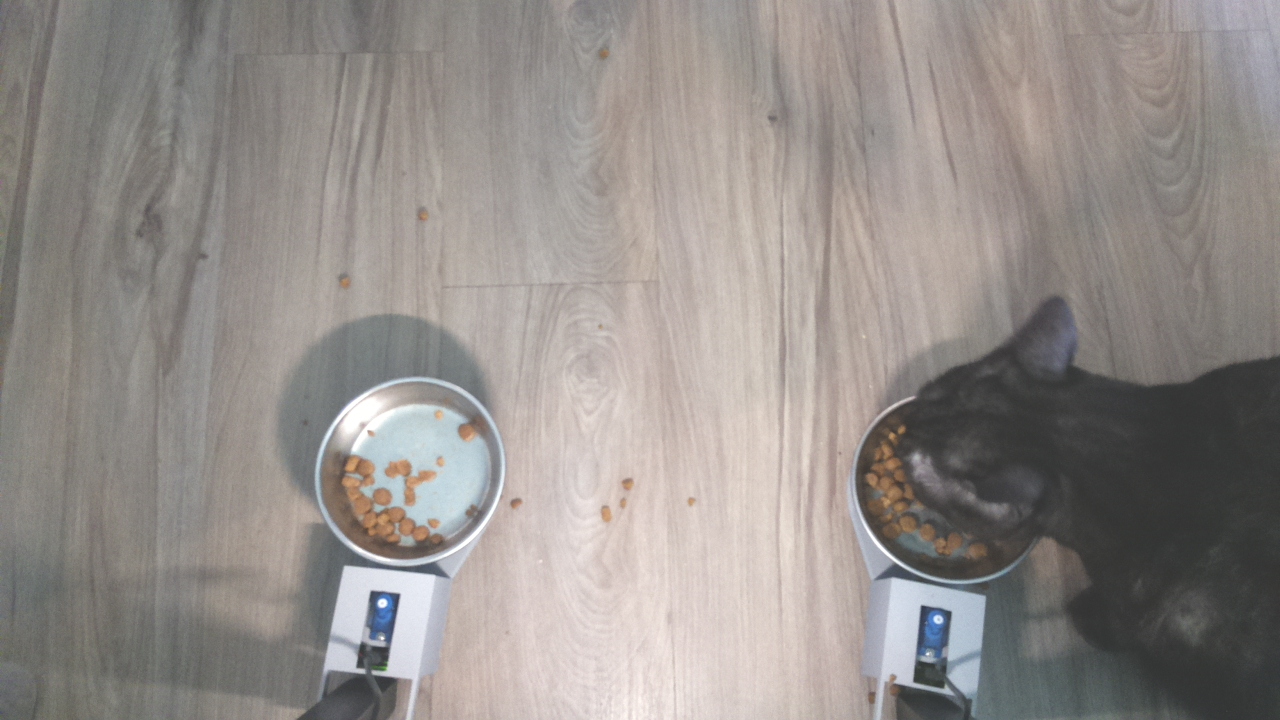open_bowl: (312, 372, 502, 569)
saki_eating: (842, 282, 1107, 597)
